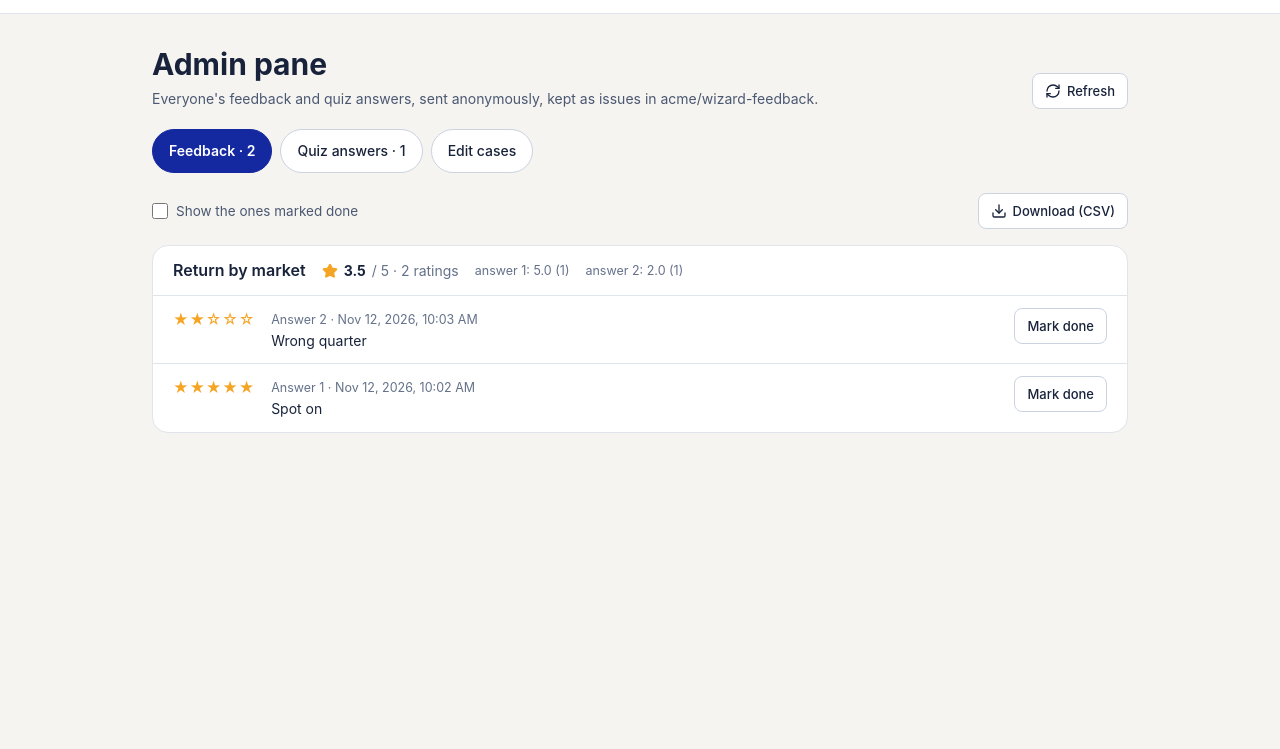
Scenario: the admin pane › shows each case's ratings and comments, marks one done, and saves an edit
expect the element with test id "admin-case-feedback" shows "Spot on": met, box [271, 400, 322, 417]
Click the button "Mark done" in the row of "Nov 12, 2026, 10:03 AM".
click(1061, 326)  # box [1014, 308, 1107, 344]
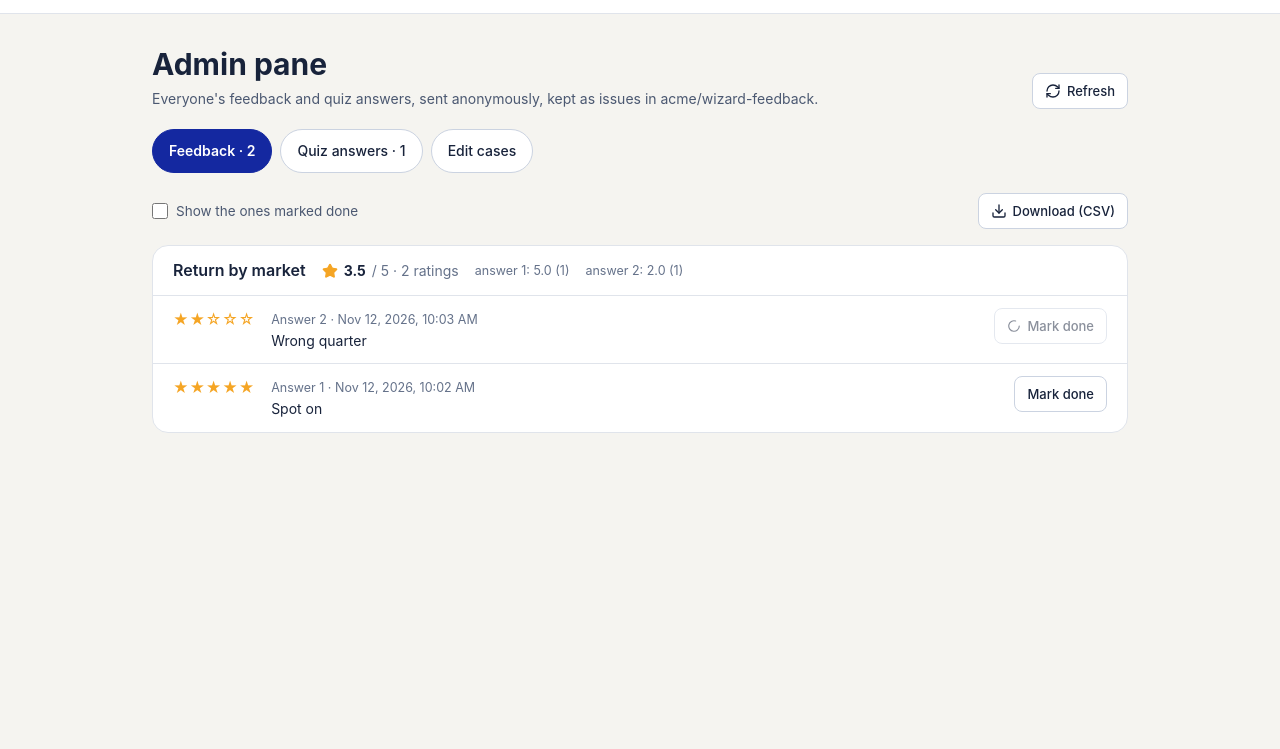
Click the tab with test id "admin-tab-quiz".
click(352, 151)  # box [280, 129, 423, 173]
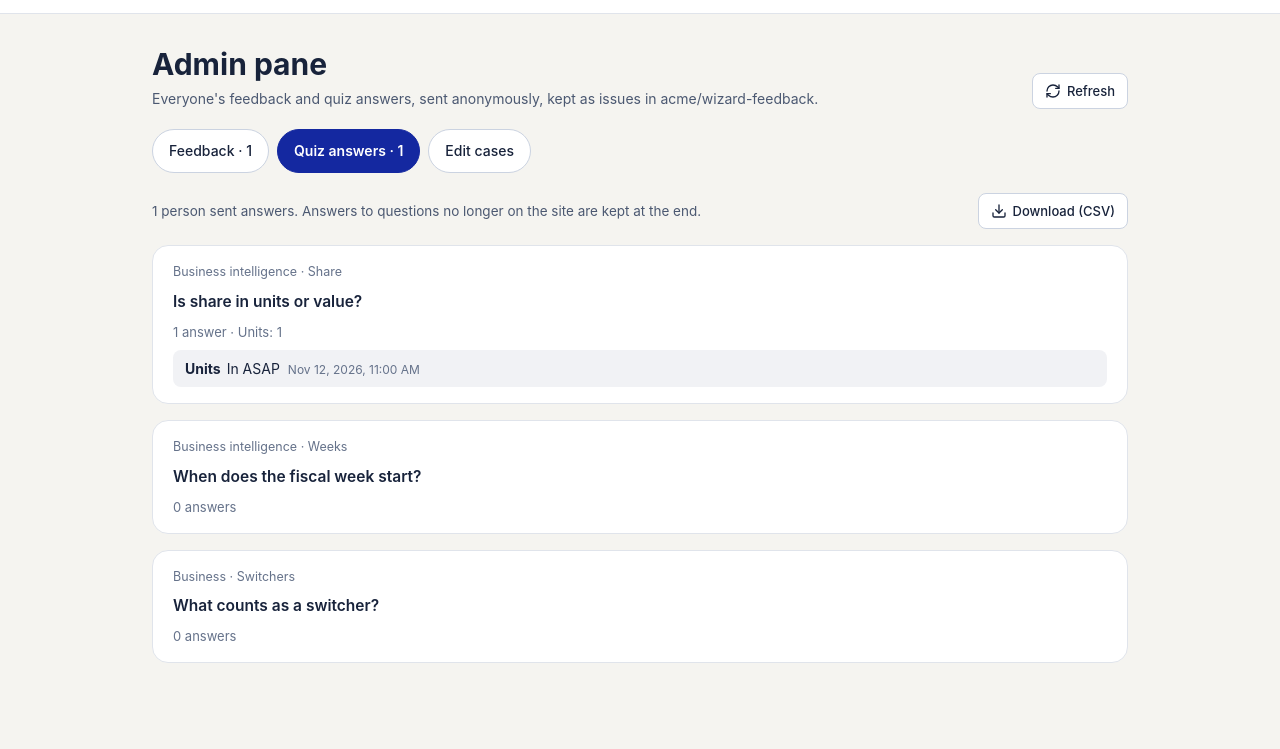
expect the element with test id "admin-question" shows "1 answer · Units: 1": met, box [152, 245, 1128, 404]
Click the tab with test id "admin-tab-edit".
click(480, 151)  # box [428, 129, 531, 173]
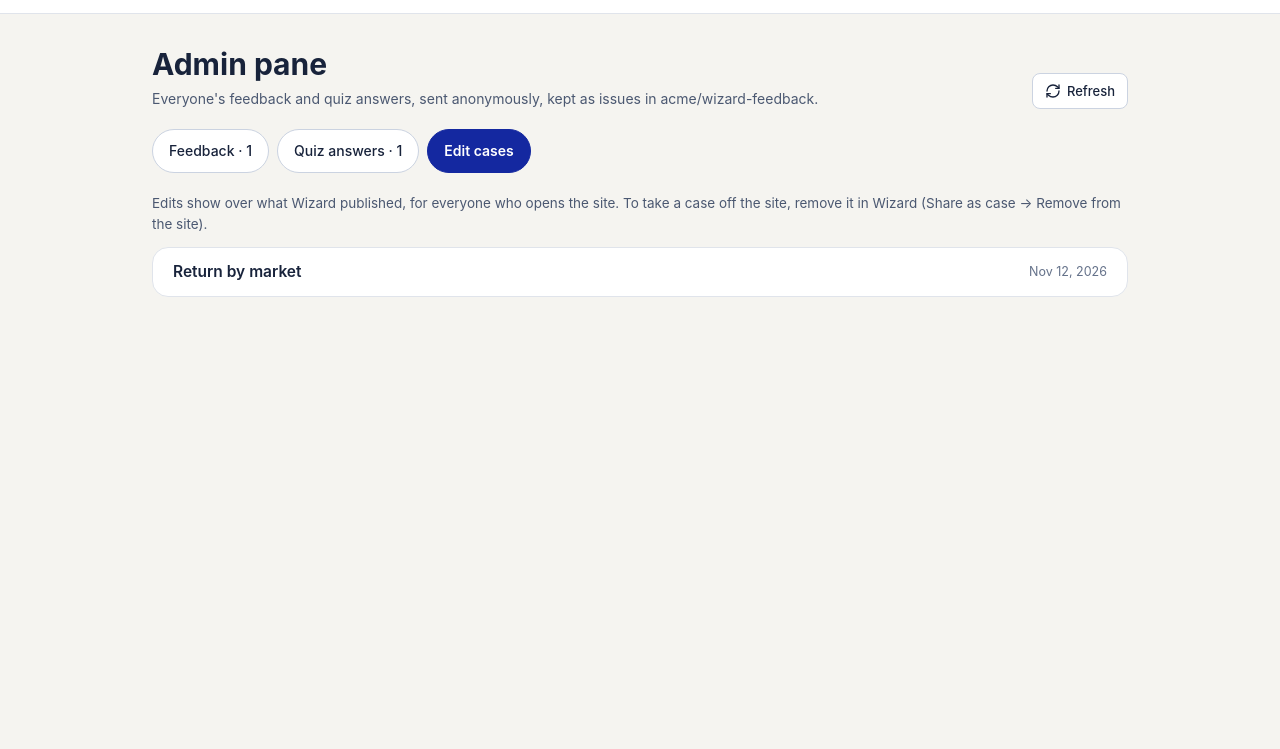
Click the button with test id "admin-edit-case".
click(237, 272)  # box [153, 248, 1127, 296]
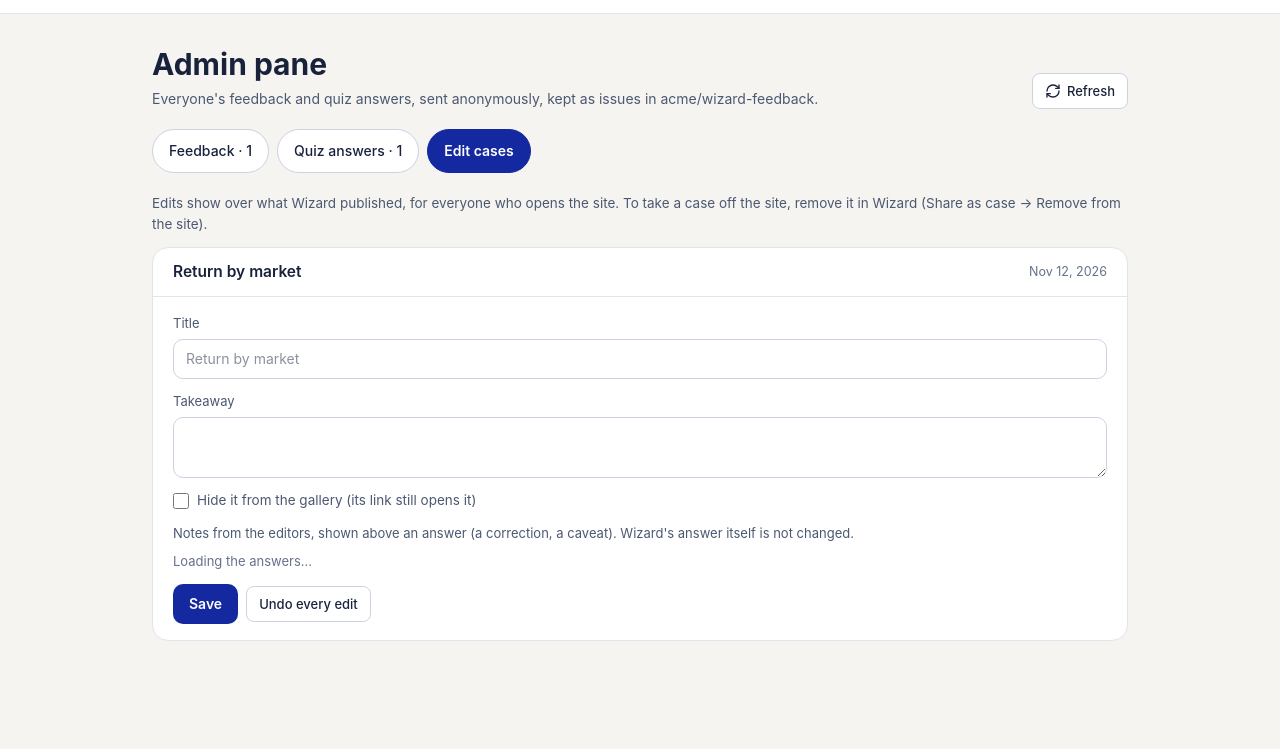
Type "Marketing return, Q3" into the field with test id "admin-edit-title".
click(640, 359); type("Marketing return, Q3")  # box [173, 339, 1107, 379]
Click the checkbox with test id "admin-edit-hidden".
click(181, 501)  # box [173, 493, 189, 509]
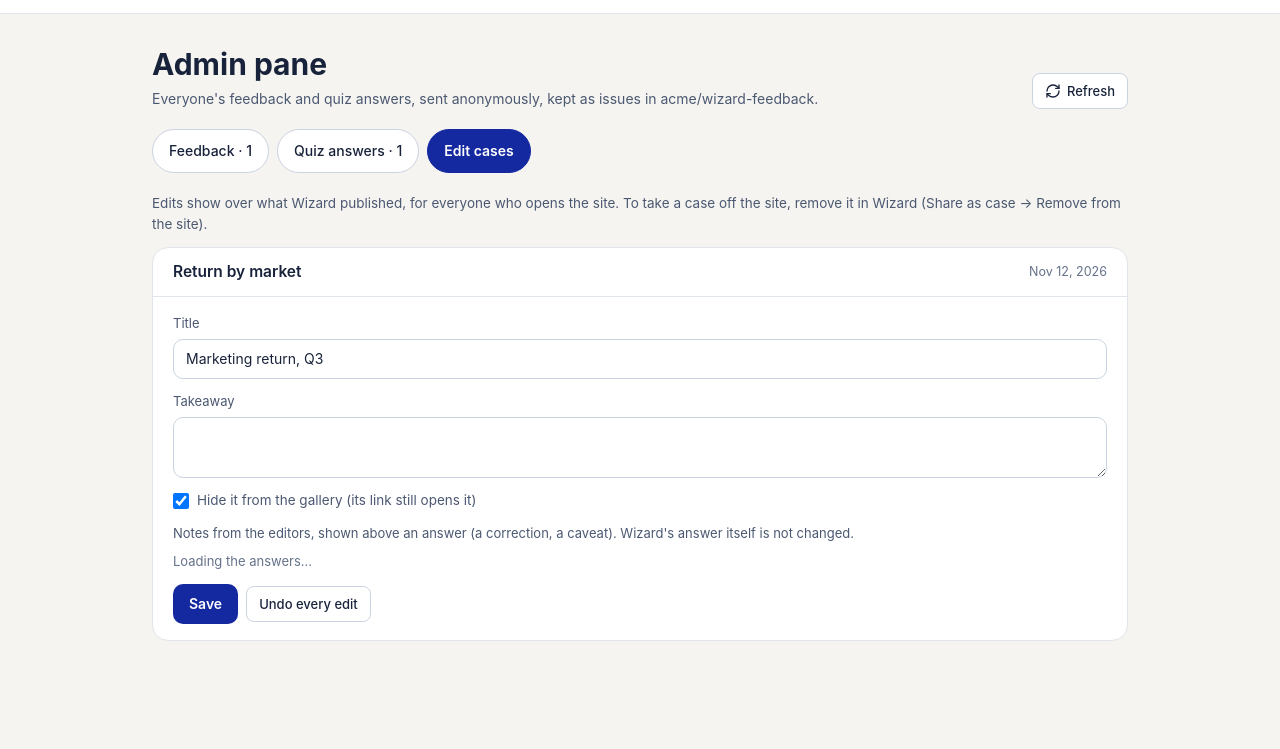
Click the button with test id "admin-edit-save".
click(206, 604)  # box [173, 584, 238, 624]
(page scrolled)
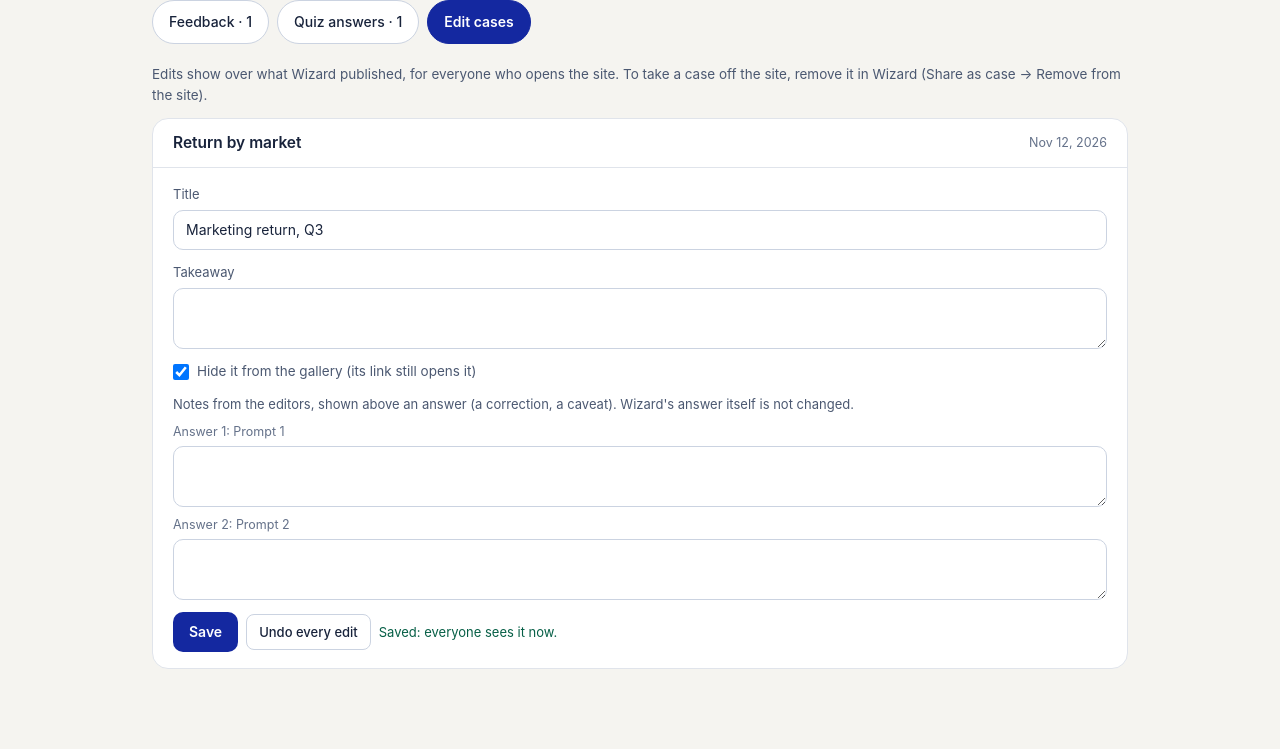
expect the text "Saved: everyone sees it now." is shown: met, box [379, 622, 557, 642]
